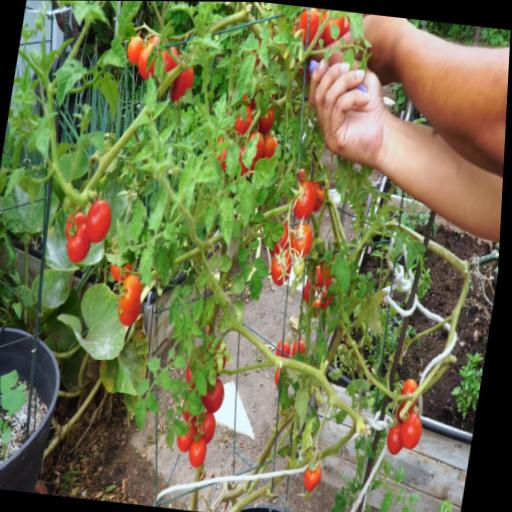Spider Mites: (215, 191, 240, 246), (251, 149, 283, 190), (234, 176, 257, 228), (292, 383, 316, 431), (235, 50, 258, 100), (138, 242, 161, 287), (223, 135, 244, 176), (241, 128, 262, 168), (199, 292, 219, 331), (303, 412, 321, 450), (203, 201, 219, 234), (255, 39, 272, 70), (233, 270, 250, 296), (219, 248, 235, 273), (197, 270, 211, 290)
